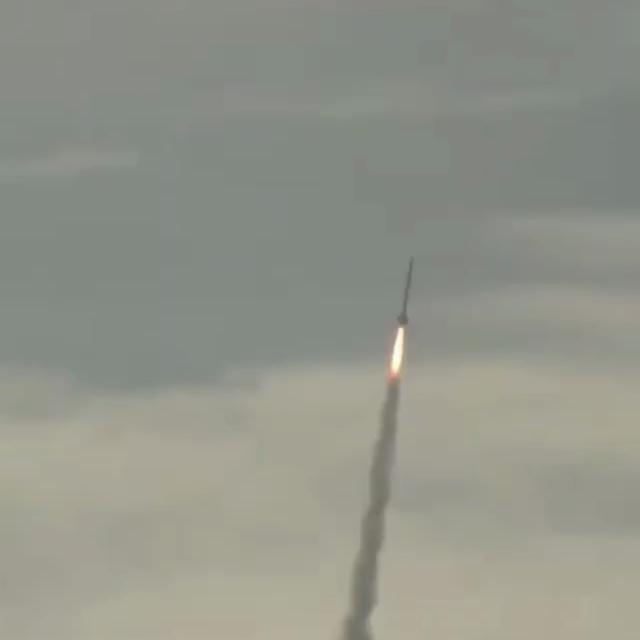smoke_trail_with_rocket: (339, 259, 414, 640)
